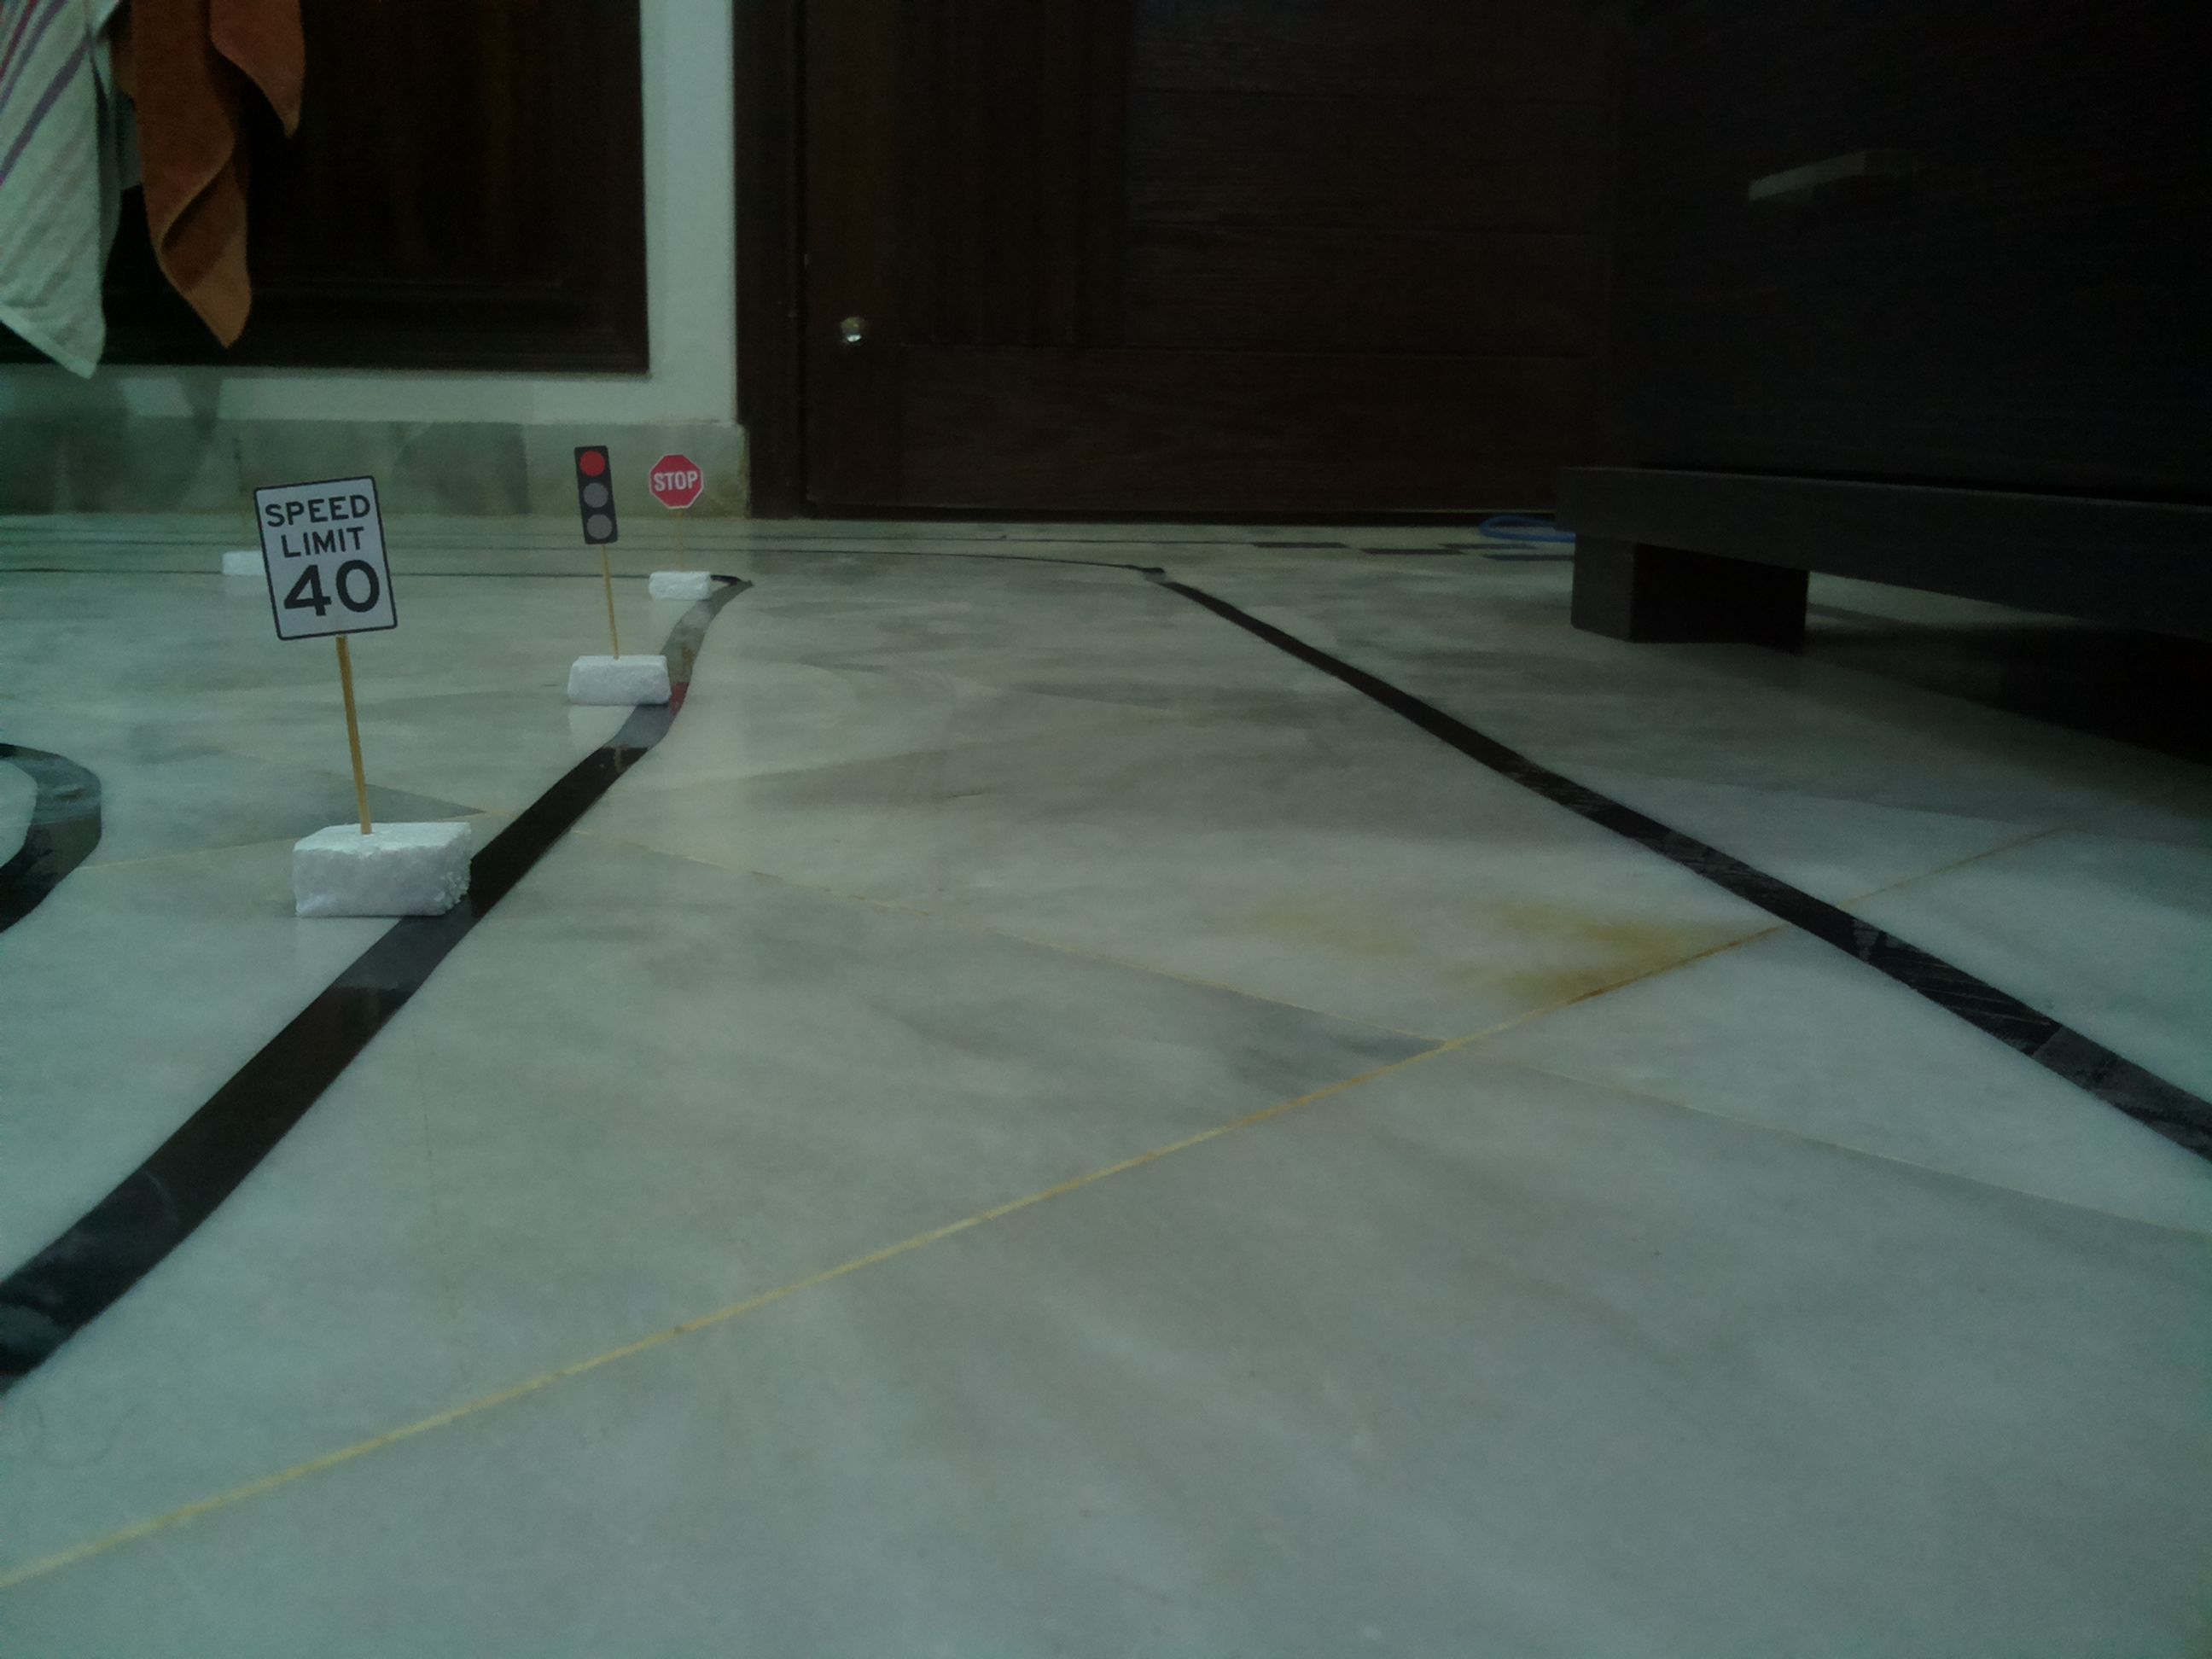Red traffic light: (571, 446, 624, 545)
Speed limit 40: (249, 474, 399, 643)
Stop sign: (648, 451, 707, 514)
